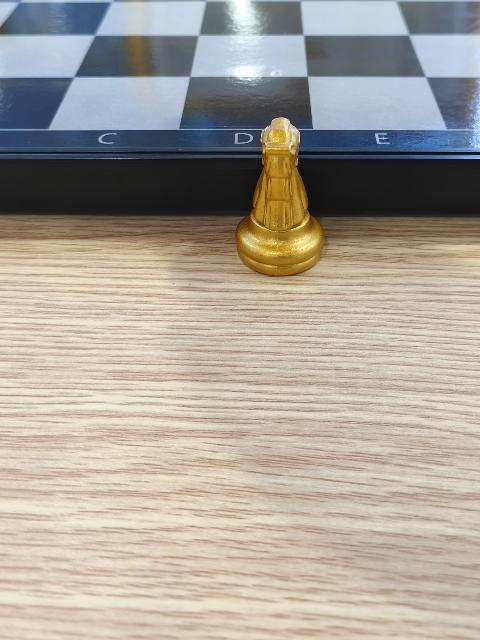black_knight: (238, 116, 323, 275)
